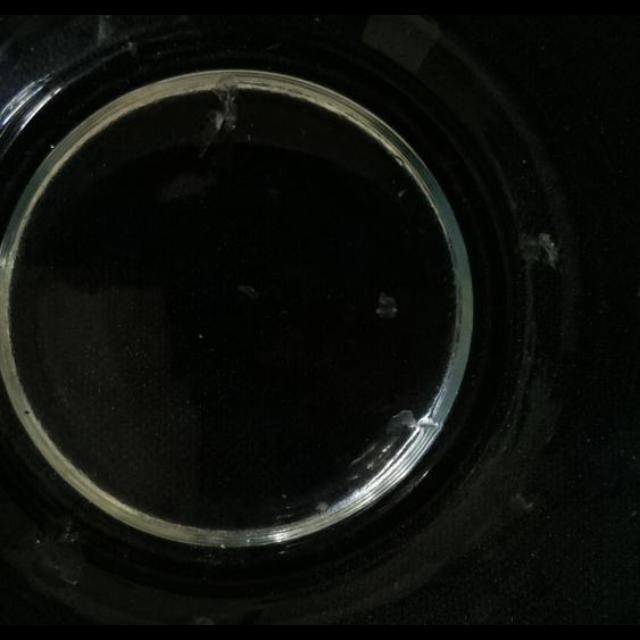Fibre: (342, 412, 424, 486), (208, 80, 242, 138), (387, 410, 419, 436), (536, 234, 558, 266), (374, 292, 398, 318), (238, 284, 260, 300)
microbeads: (511, 491, 533, 512), (314, 501, 328, 514)
